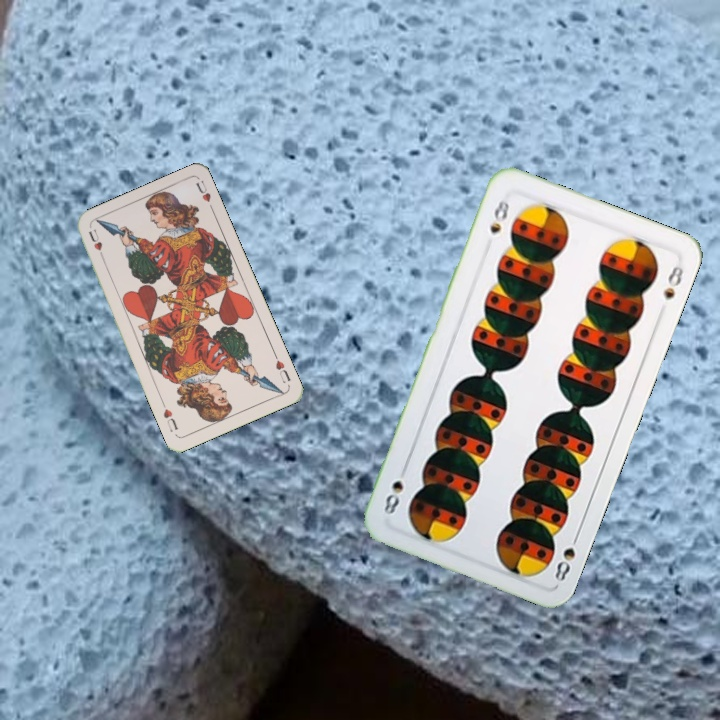HU: (85, 225, 107, 263), (270, 350, 293, 386)
S8: (550, 529, 582, 584), (485, 195, 512, 236)
